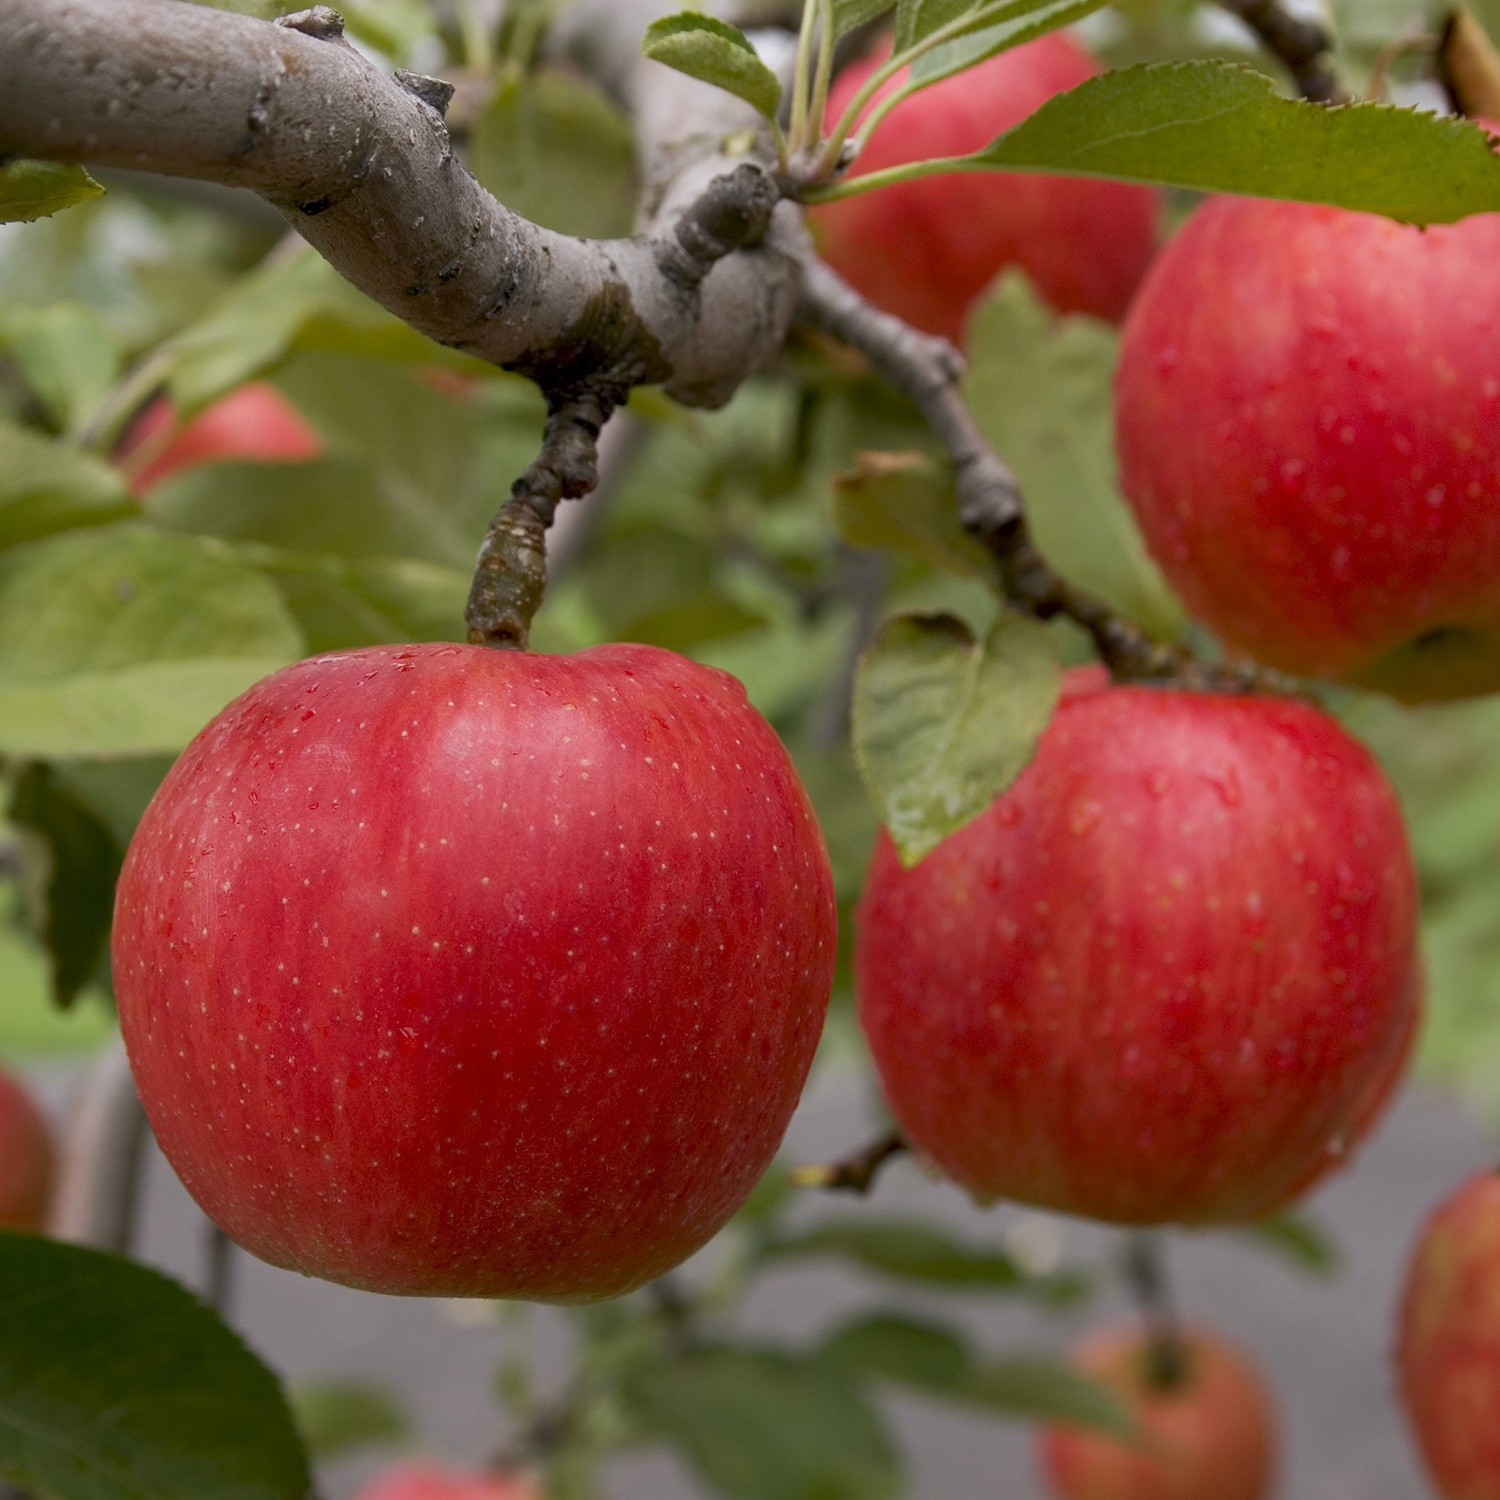apple: (109, 637, 831, 1304), (852, 690, 1434, 1232), (1114, 130, 1500, 707), (782, 1, 1179, 370), (1043, 1308, 1277, 1500), (107, 363, 323, 529), (1402, 1159, 1499, 1500)
